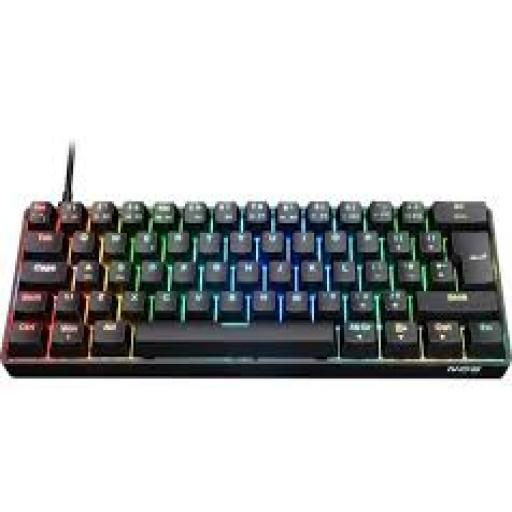keyboard: (0, 148, 510, 376)
